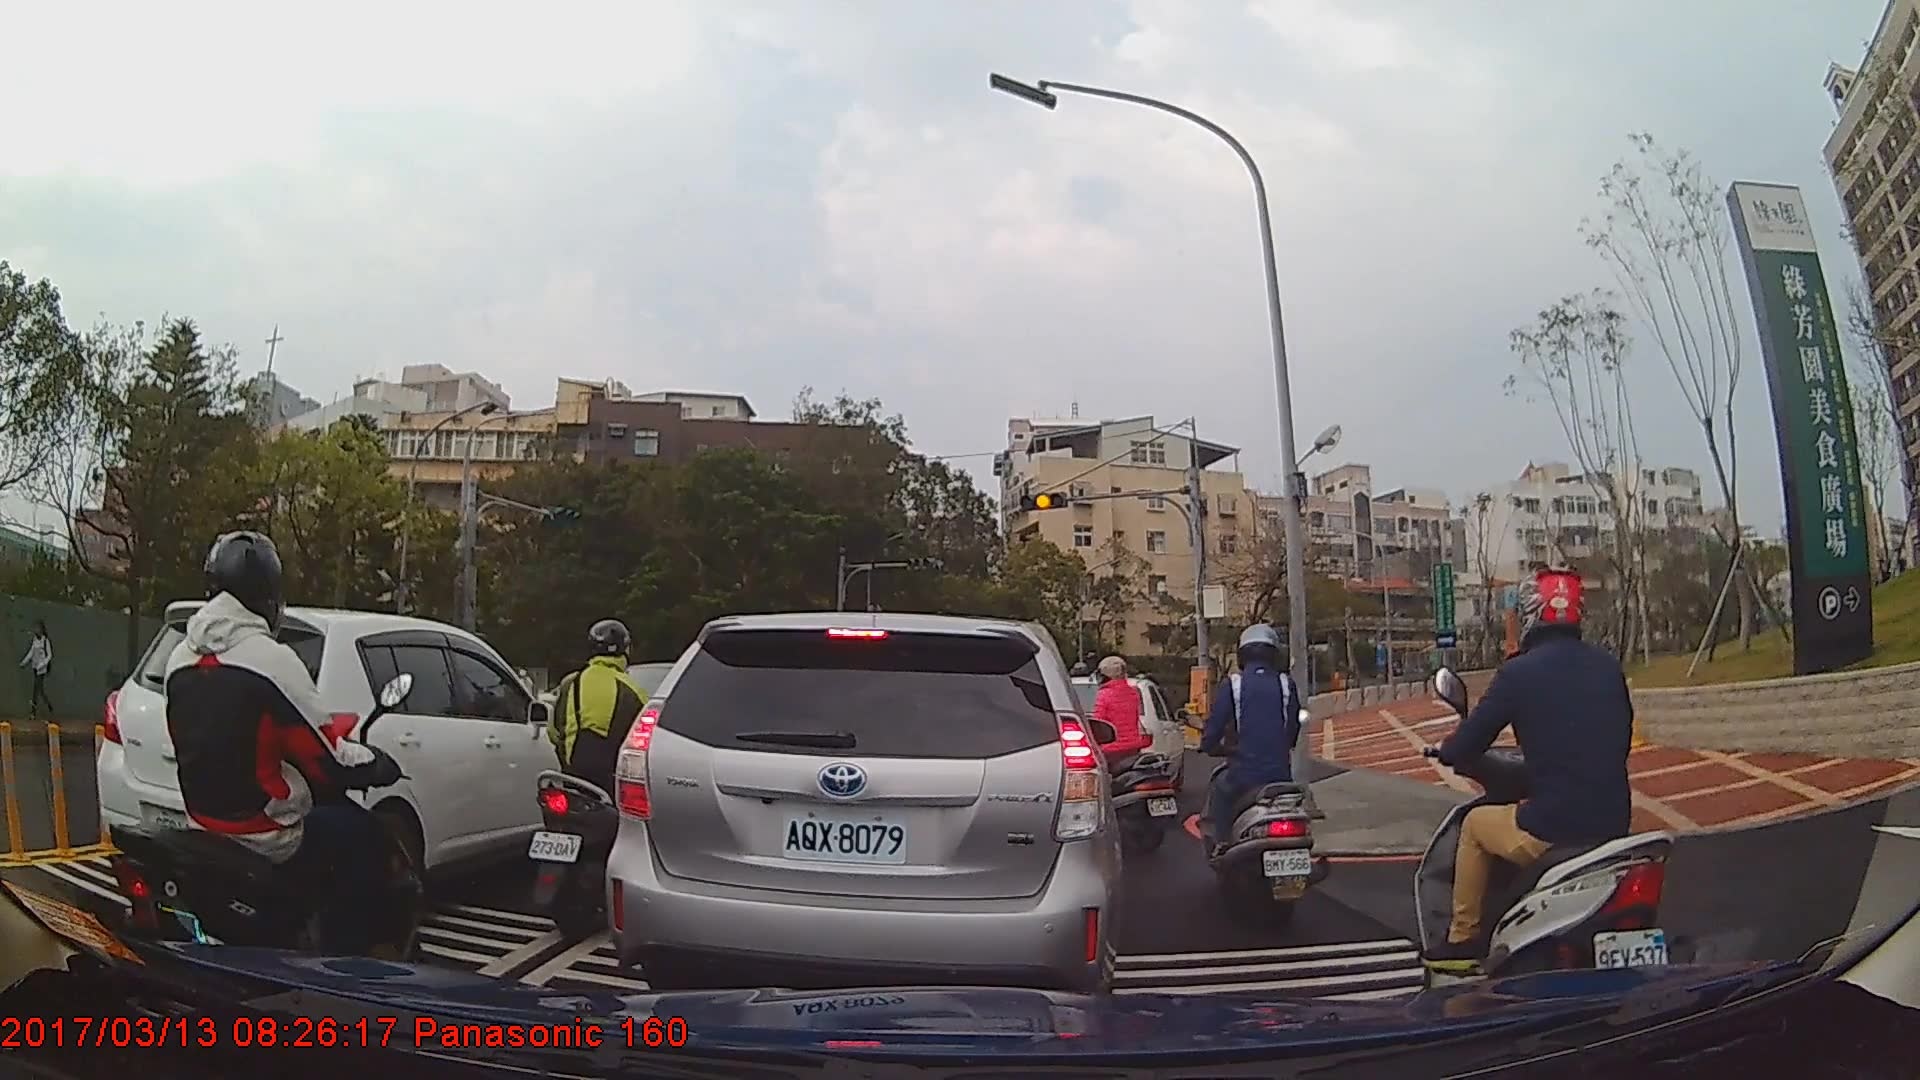pedestrian: (20, 621, 59, 718)
rider: (98, 527, 432, 1028), (1406, 567, 1677, 1033), (533, 615, 686, 942), (1197, 617, 1324, 935), (1053, 654, 1175, 861)
vehicle: (602, 609, 1124, 995), (95, 603, 596, 916)
